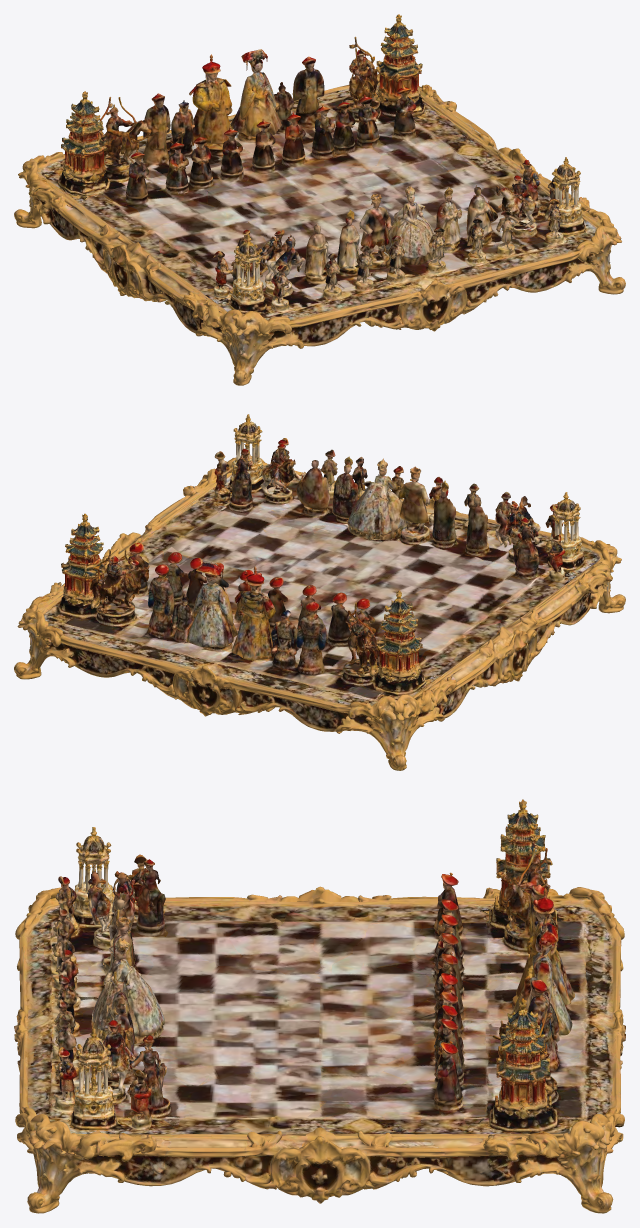
3 renders of one model, top to bottom at view 1: azimuth 30°, elevation 25°; view 2: azimuth 150°, elevation 25°; view 3: azimuth 270°, elevation 25°, orthographic. The views are drawn at different scales.
Visible parts, largest first — view 1: Mesh_0; view 2: Mesh_0; view 3: Mesh_0.
Boxes of the visible parts, left/top/right/bottom form: Mesh_0: left=14, top=14, right=625, bottom=385; Mesh_0: left=14, top=414, right=625, bottom=770; Mesh_0: left=14, top=799, right=625, bottom=1213.
Bounding box in the file's own units: 1.89 × 0.6618 × 1.9.
Materials: 1 (1 with a texture image).
